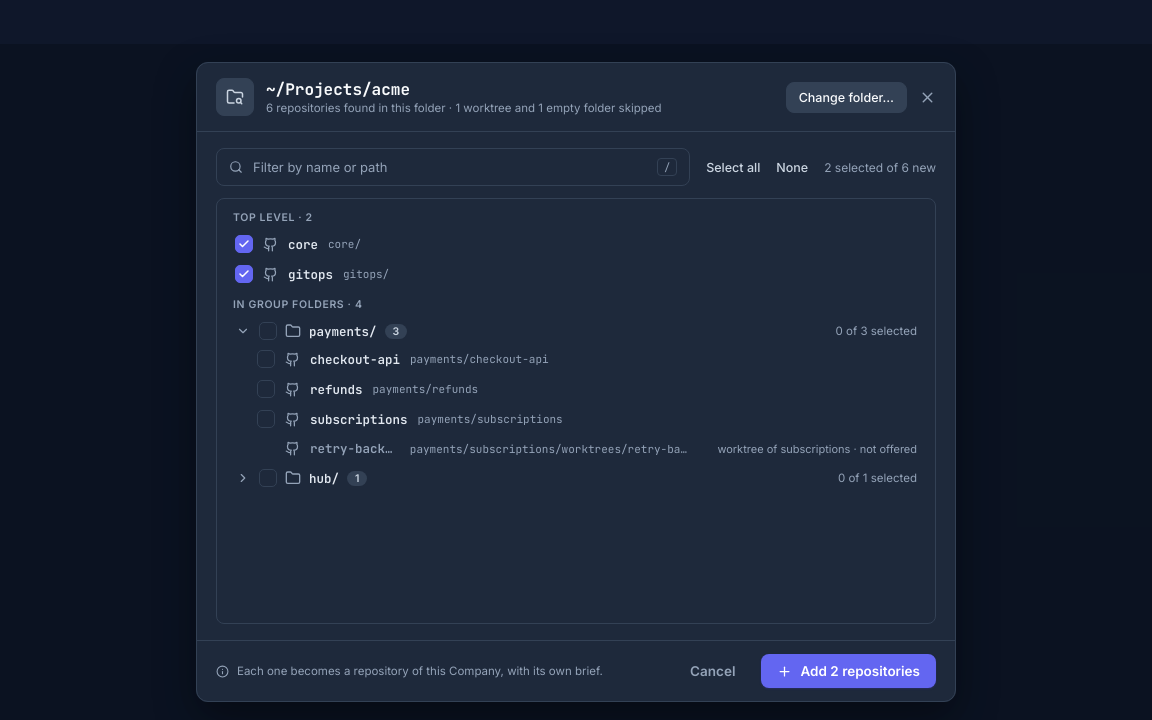
Scenario: Adding the repositories that were ticked › keeps the ones that worked and says why the others did not
The width and height of the screenshot is (1152, 720).
What coordinates should you click on to do the following:
click the button "Add 2 repositories"
I would click on:
 (849, 671)
Its box is [762, 654, 936, 688].
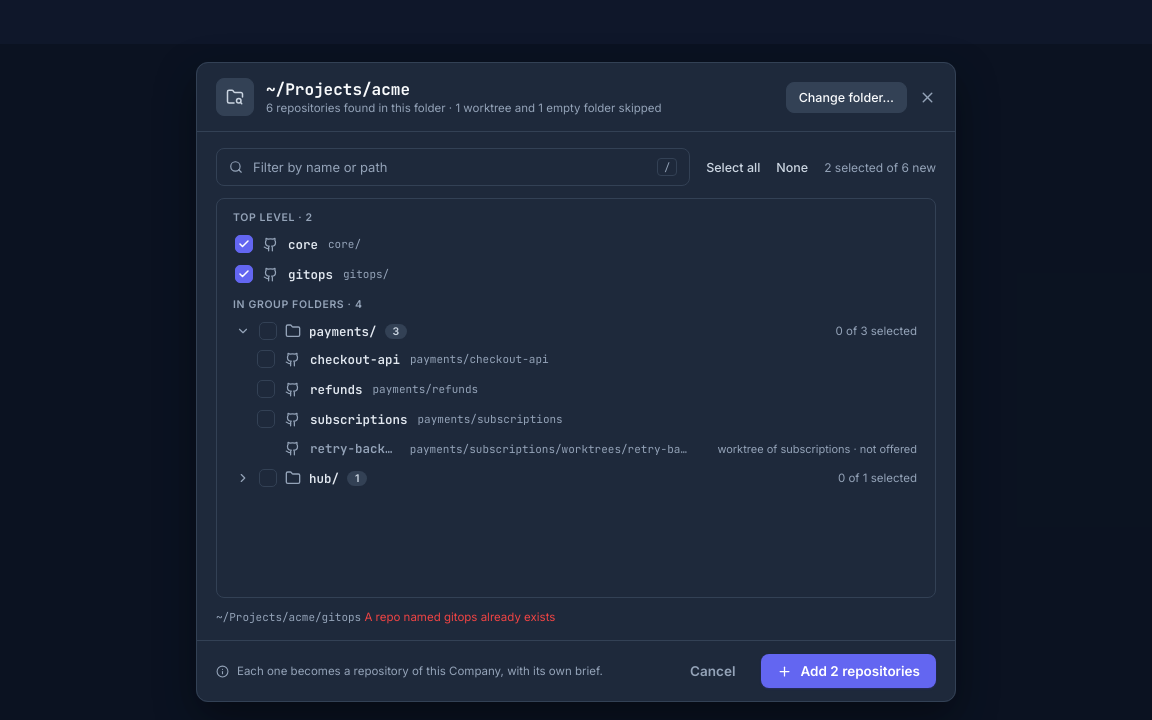
Result: the text "A repo named gitops already exists" is shown at [364, 610, 555, 624]
